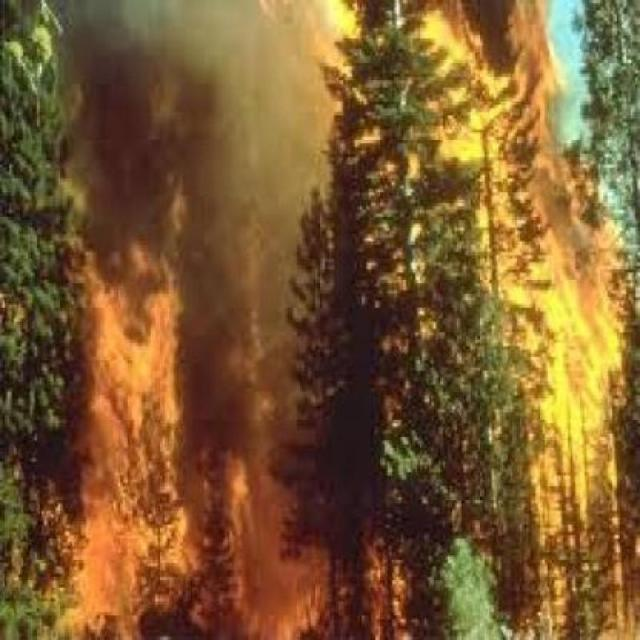Fire: (422, 0, 638, 528), (74, 224, 188, 606), (218, 465, 332, 640)
Smoke: (180, 66, 332, 434)
